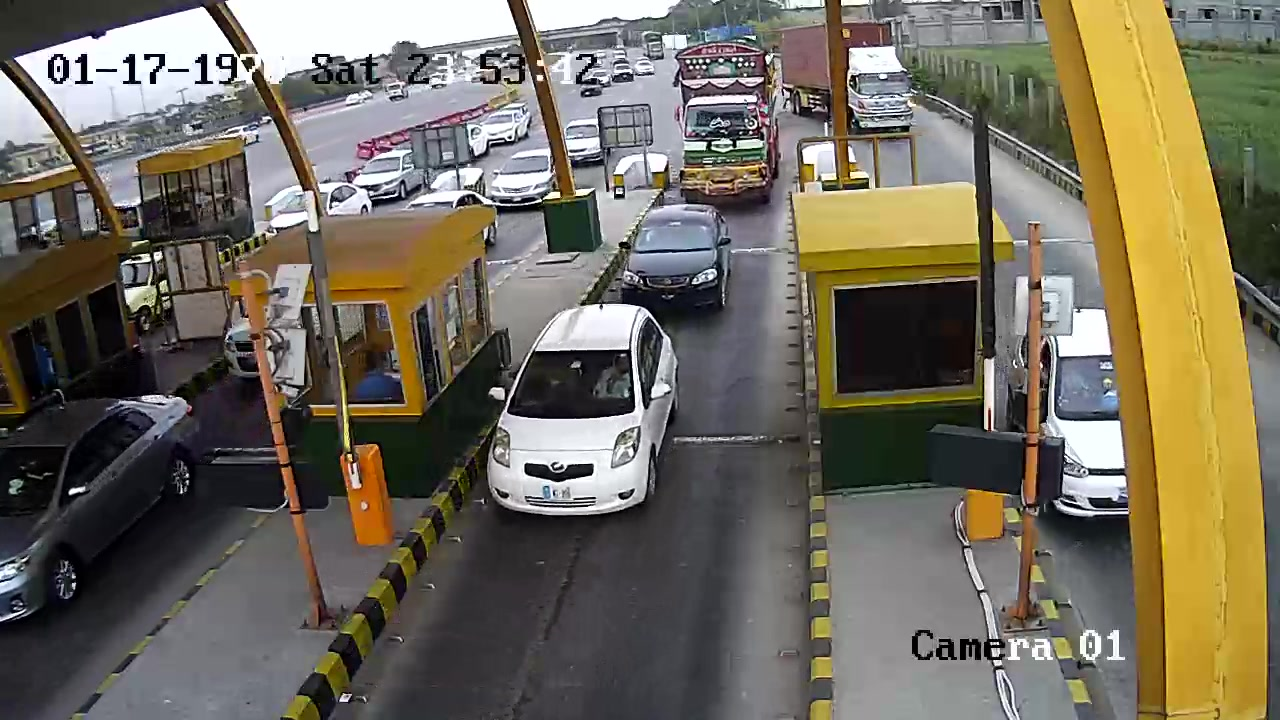F1: (482, 301, 685, 523)
